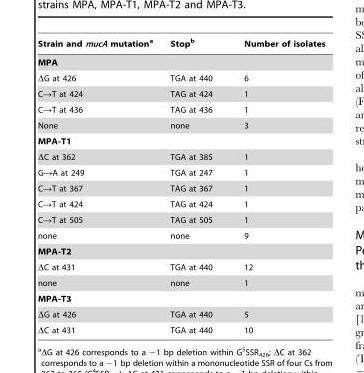table: (37, 37, 324, 334)
table column: (37, 37, 160, 334), (227, 37, 324, 334), (160, 37, 227, 334)
table column header: (37, 37, 324, 52)
table projected row header: (37, 52, 324, 70), (37, 243, 324, 259), (37, 290, 324, 306), (37, 133, 324, 148)
table row: (37, 52, 324, 70), (37, 85, 324, 101), (37, 101, 324, 117), (37, 117, 324, 133), (37, 148, 324, 164), (37, 164, 324, 180), (37, 195, 324, 211), (37, 211, 324, 227), (37, 227, 324, 243), (37, 243, 324, 259), (37, 274, 324, 290), (37, 290, 324, 306), (37, 306, 324, 322), (37, 37, 324, 52), (37, 70, 324, 85), (37, 133, 324, 148), (37, 180, 324, 195), (37, 259, 324, 274), (37, 322, 324, 334)
